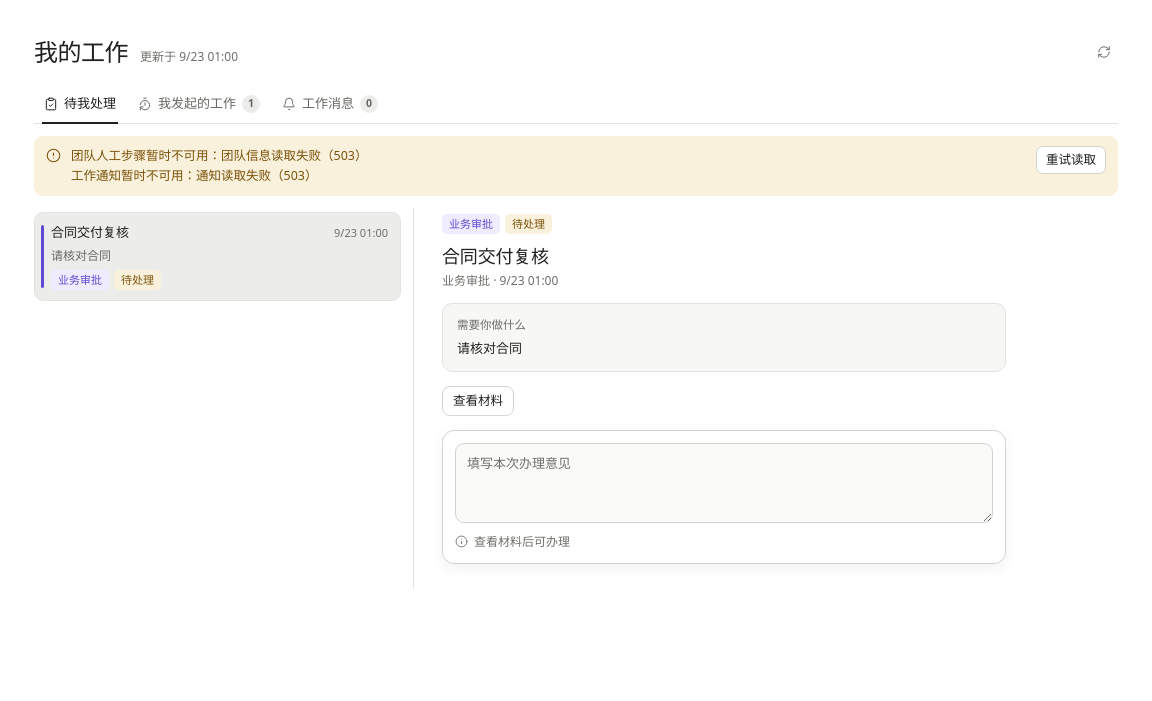
Scenario: shows complete frozen quotation rows and passes them to readonly Pi review without identity fields
Click the button "查看材料": (478, 401) x1=442 y1=386 x2=514 y2=416
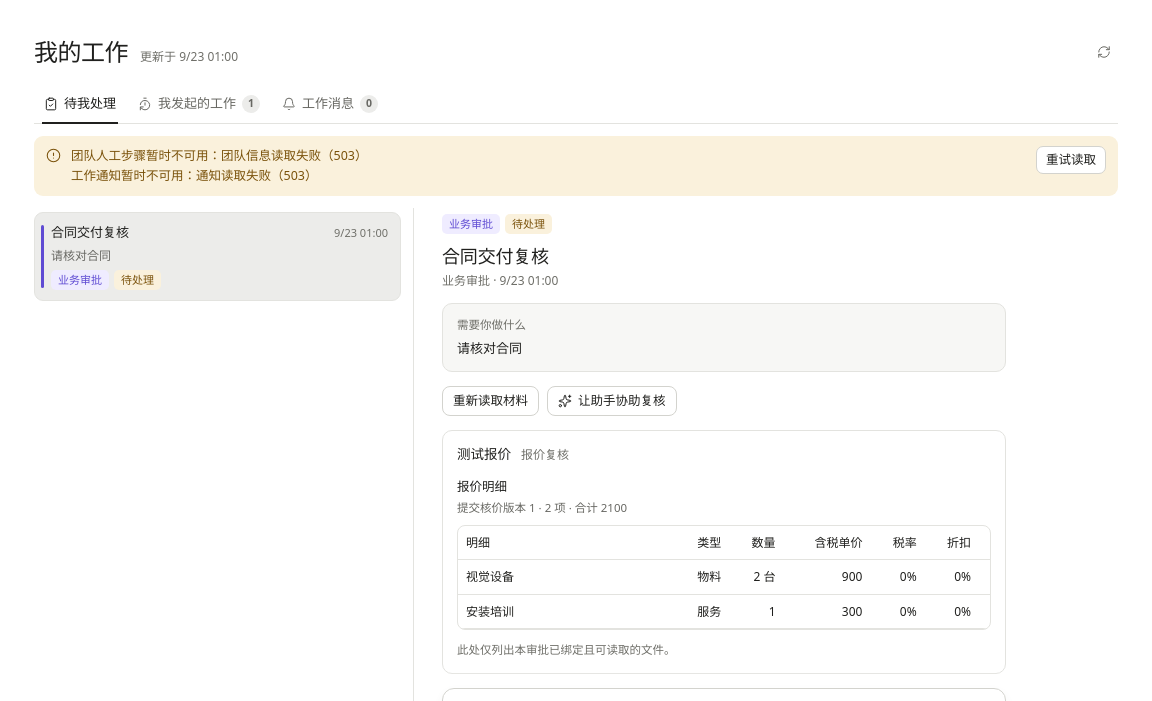
Now the table shows "视觉设备", box x1=466 y1=568 x2=514 y2=585
Now the table shows "安装培训", box x1=466 y1=603 x2=514 y2=620
Now the text "提交核价版本 1 · 2 项 · 合计 2100" is shown, box x1=457 y1=500 x2=627 y2=515
